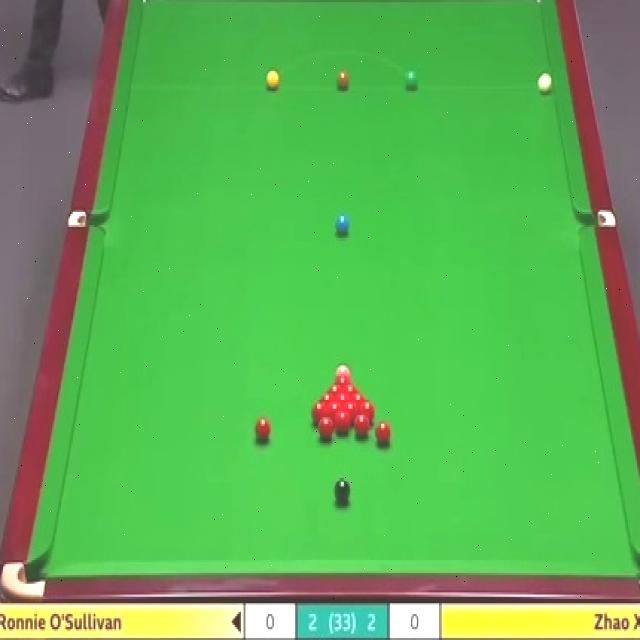black-ball: (333, 475, 351, 505)
blue-ball: (337, 214, 350, 238)
brown-ball: (336, 72, 349, 91)
green-ball: (405, 70, 418, 90)
pink-ball: (335, 360, 351, 379)
red-ball: (251, 417, 272, 444), (376, 421, 392, 451), (334, 410, 351, 436), (316, 417, 333, 443), (358, 401, 376, 423), (353, 416, 370, 438), (312, 401, 328, 424), (326, 400, 344, 418), (344, 403, 358, 421), (341, 384, 361, 396), (350, 393, 368, 404), (333, 375, 352, 384), (324, 385, 342, 394), (335, 394, 351, 404), (320, 394, 334, 405)
white-ball: (536, 70, 554, 97)
yellow-ball: (265, 68, 281, 91)
